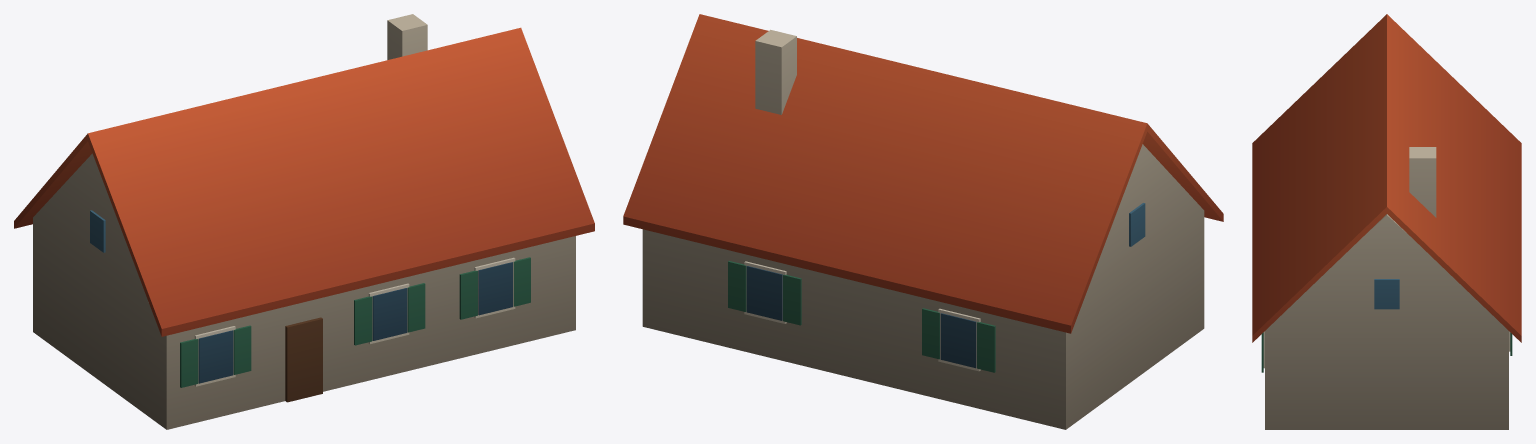
The model's file is Longere.fbx.
The picture shows the model from 3 angles, left to right: view 1: azimuth 30°, elevation 25°; view 2: azimuth 150°, elevation 25°; view 3: azimuth 270°, elevation 25°; orthographic projection. The views are drawn at different scales.
Visible parts, largest first — view 1: Longere_LOD0; view 2: Longere_LOD0; view 3: Longere_LOD0.
Part boxes in pixels (x1=…): Longere_LOD0: x1=14, y1=14, x2=594, y2=429; Longere_LOD0: x1=623, y1=14, x2=1223, y2=429; Longere_LOD0: x1=1252, y1=14, x2=1521, y2=429.
Bounding box in the file's own units: 1.81 × 1.06 × 1.07.
Materials: 1 (1 with a texture image).
